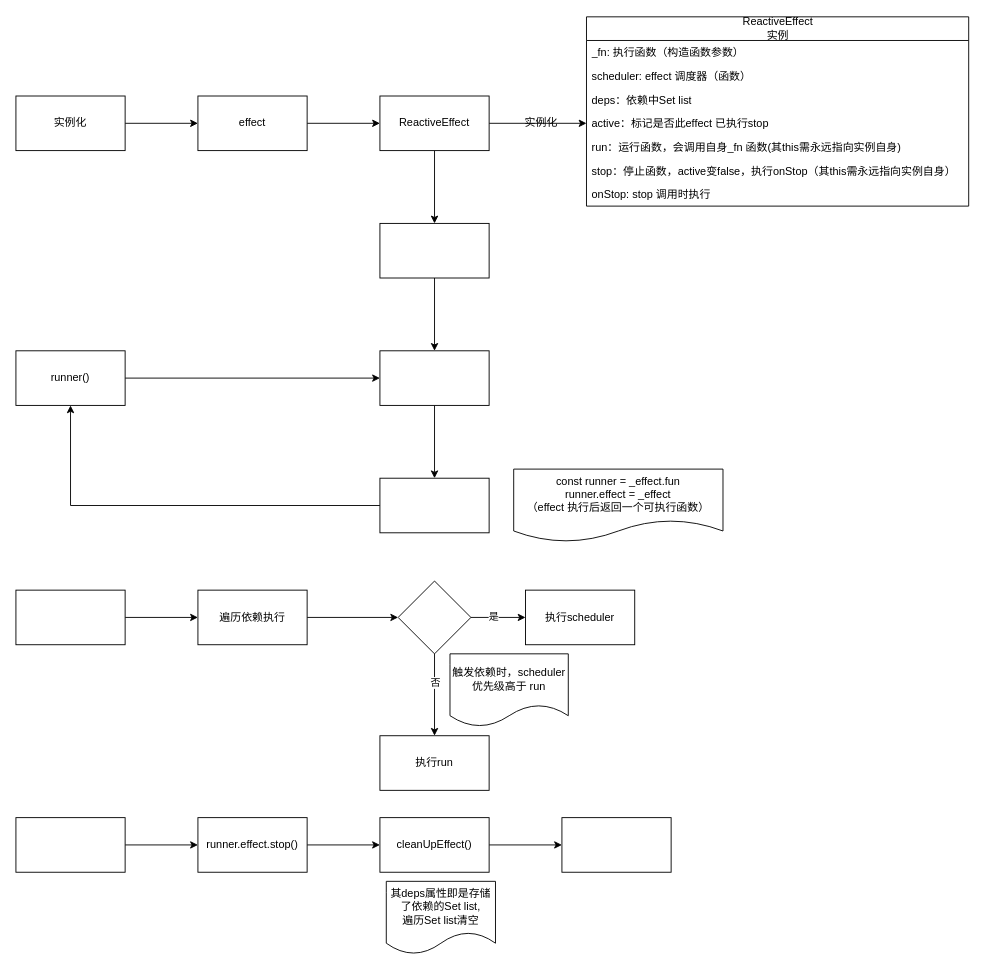
The diagram is 985 pixels wide and 970 high, and some of its shapes have lost their labels. The shapes that lost their labels are listed below. From the top down, each one's centre as x and y in pixels, then its label:
pixel 434 250: 获得_effect实例
pixel 434 377: _effect.run()
pixel 434 505: 返回runner
pixel 70 617: trigger
pixel 434 617: 有设置 scheduler
pixel 70 844: stop （入参是effect执行返回的可执行函数runner）
pixel 616 844: active=false onStop()
